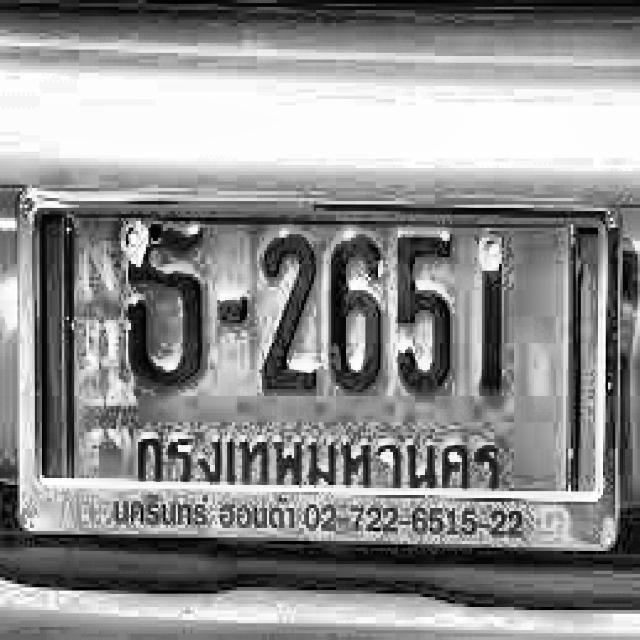license-plate: (9, 179, 624, 555)
